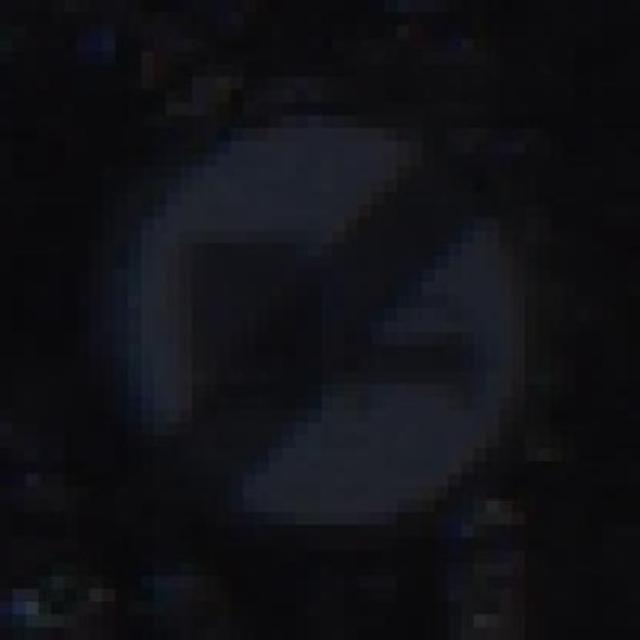Overtaking by trucks is prohibited: (77, 38, 551, 551)
